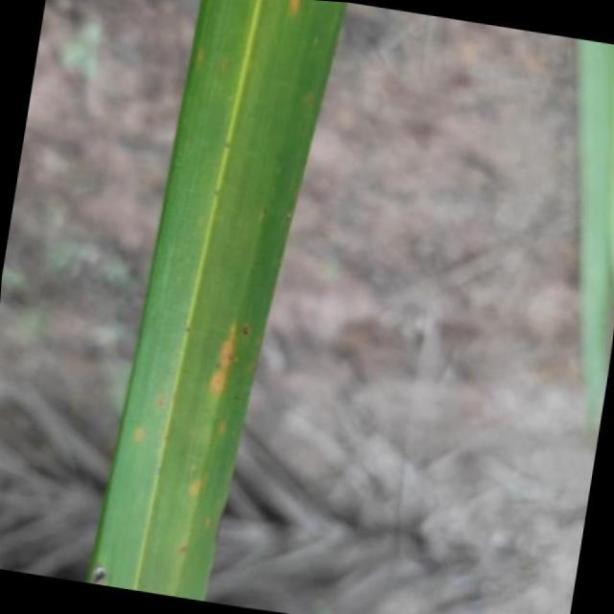Kalium: (91, 0, 346, 614)
